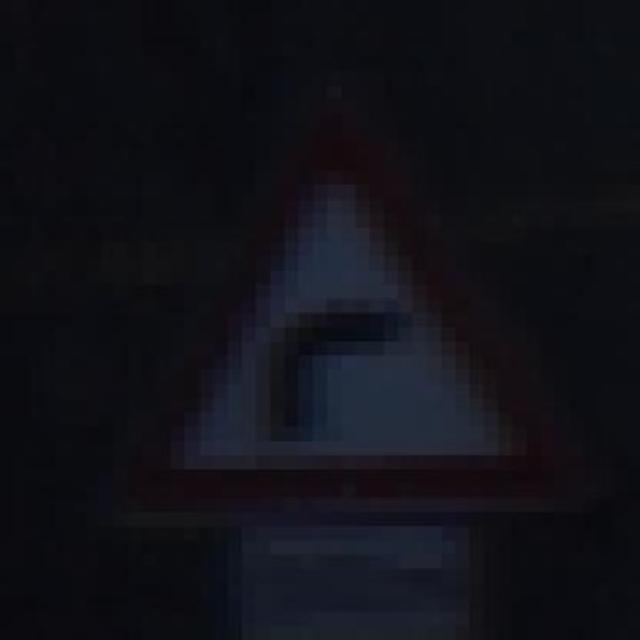Dangerous Rright Curve Ahead: (114, 128, 583, 540)
